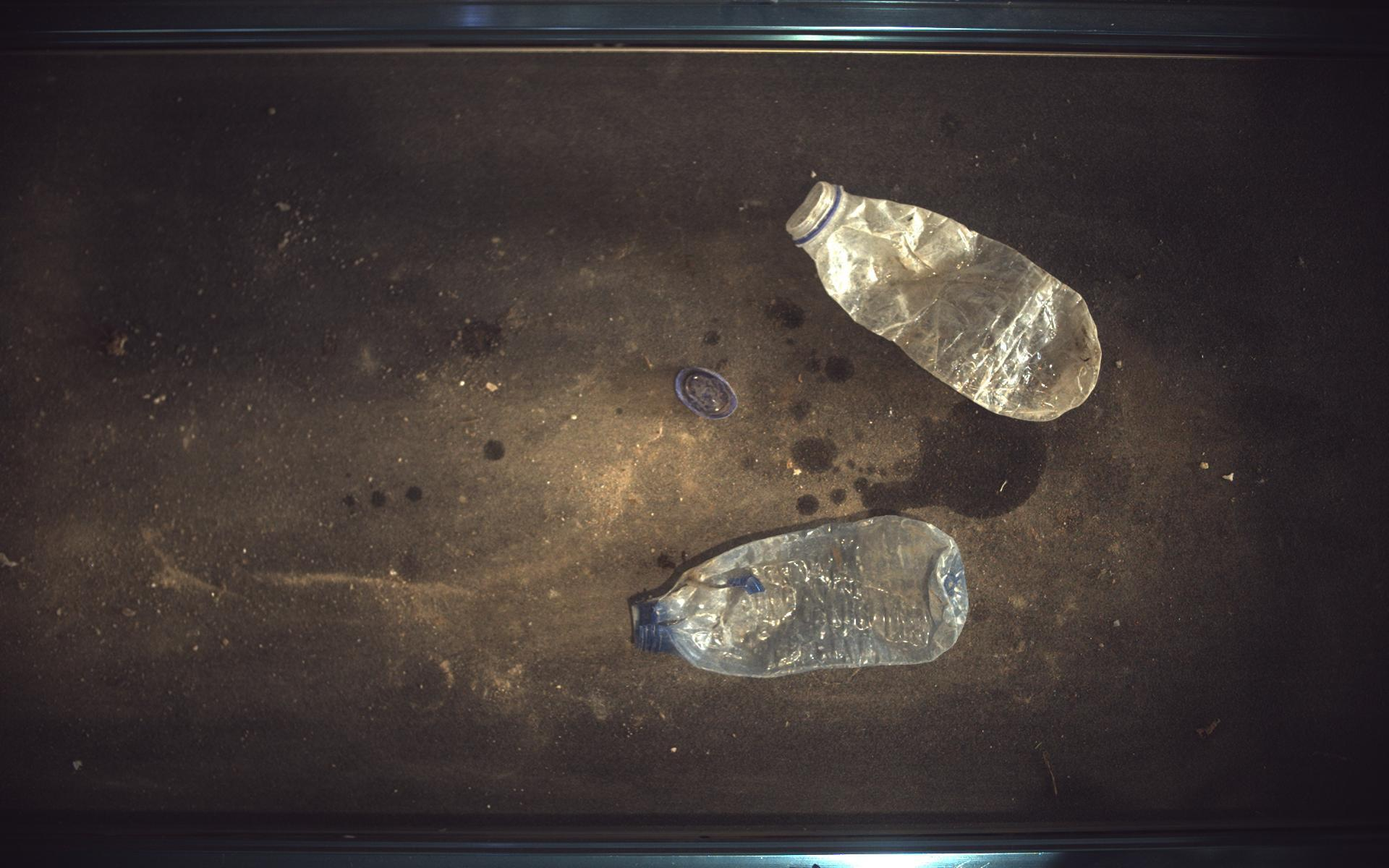general_w: (787, 182, 1103, 421), (631, 516, 970, 678), (676, 366, 739, 420)
